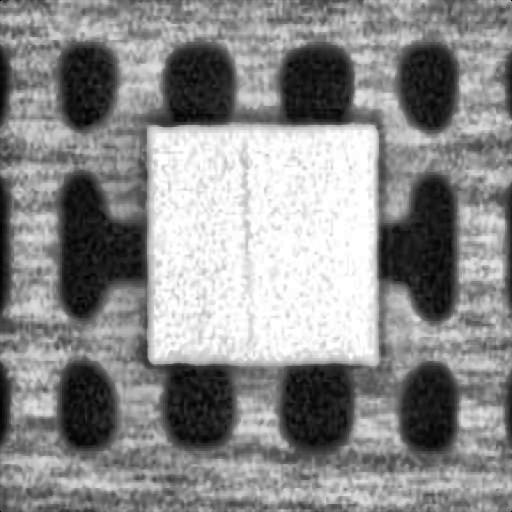DIE_CRACK: (232, 130, 253, 334)
